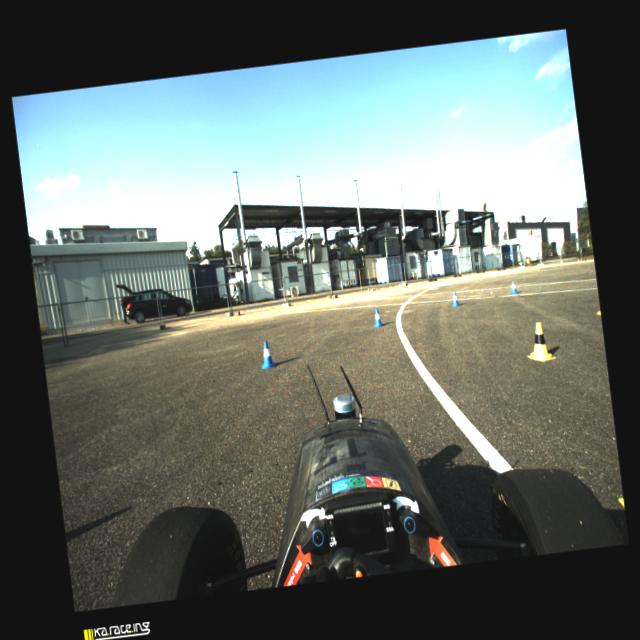blue_cone: (258, 339, 275, 368), (371, 307, 383, 327), (450, 290, 460, 306), (508, 280, 518, 294)
yellow_cone: (522, 320, 554, 362)
